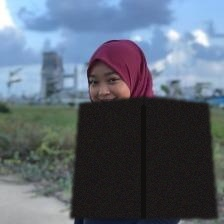Cadar_Niqab: (70, 35, 217, 218)
